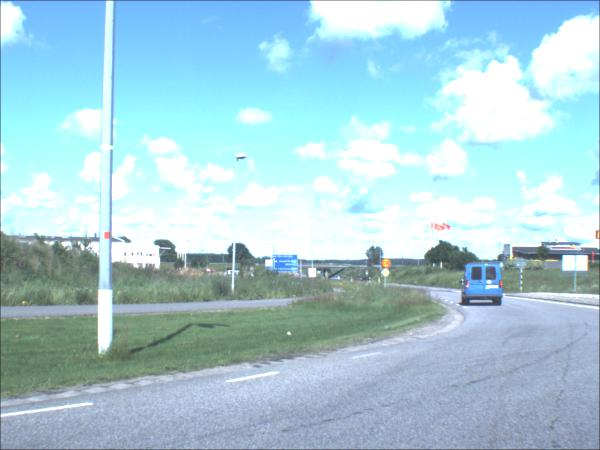80_SIGN: (380, 260, 391, 270)
PRIORITY_ROAD: (381, 270, 390, 280)
